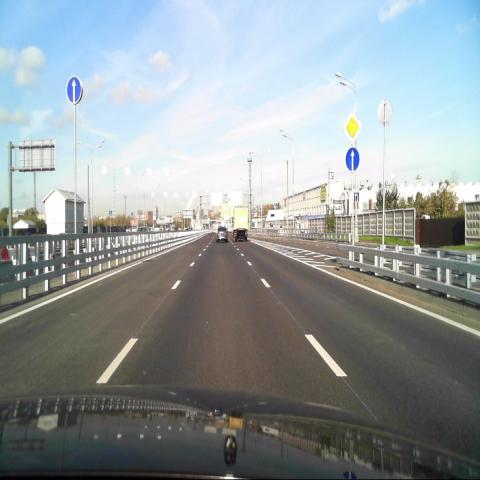4_1_1: (66, 76, 82, 105)
